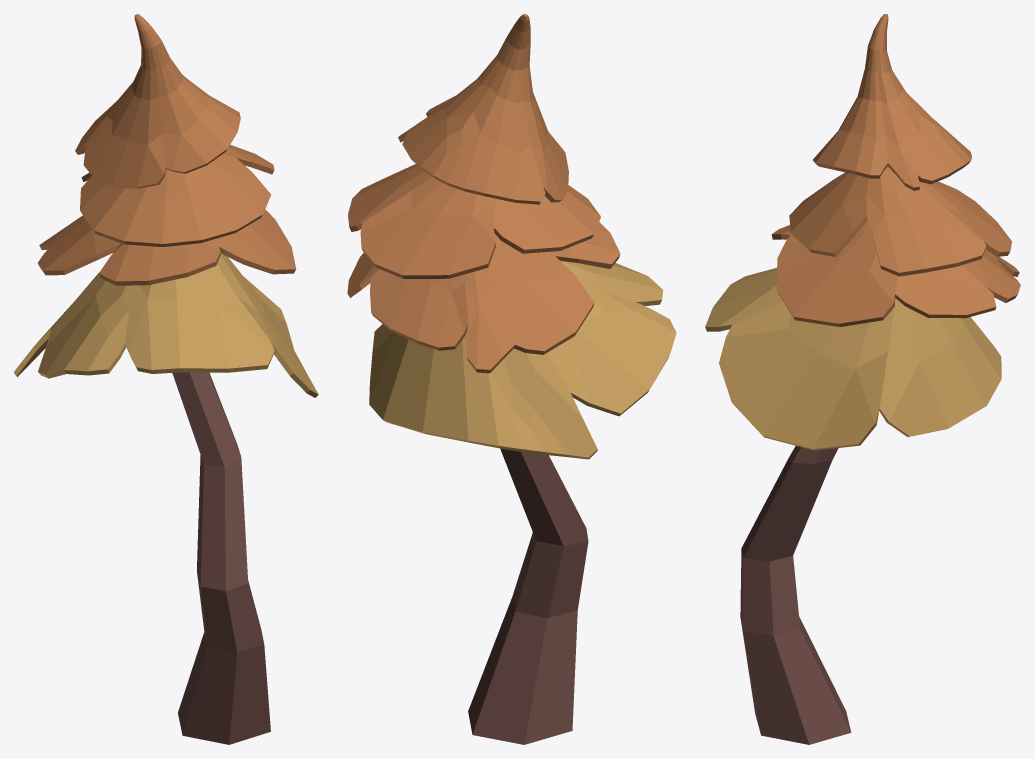
File: tree.glb
3 renders of one model, left to right at view 1: azimuth 30°, elevation 25°; view 2: azimuth 150°, elevation 25°; view 3: azimuth 270°, elevation 25°, orthographic. The views are drawn at different scales.
Parts seen in each view (by area): view 1: PineTree_Autumn_4; view 2: PineTree_Autumn_4; view 3: PineTree_Autumn_4.
Boxes of the visible parts, x1=… form: PineTree_Autumn_4: x1=14, y1=14, x2=318, y2=744; PineTree_Autumn_4: x1=347, y1=14, x2=676, y2=744; PineTree_Autumn_4: x1=705, y1=14, x2=1020, y2=744.
Bounding box in the file's own units: 1.25 × 3.34 × 1.39.
